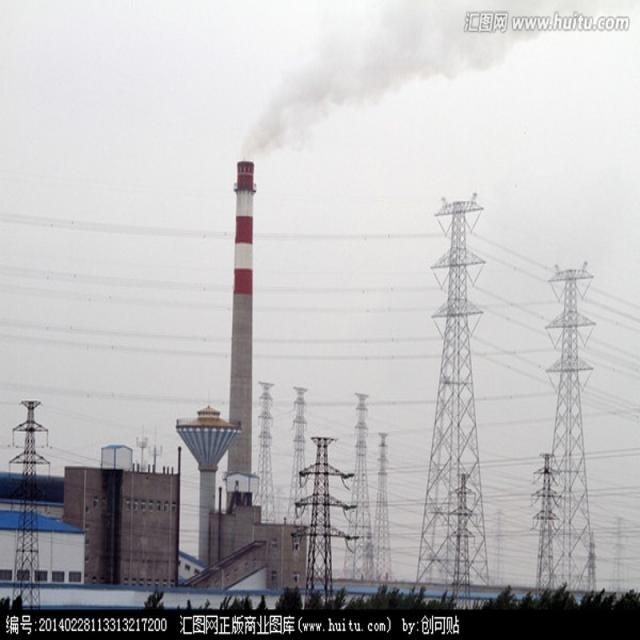non-critical vegetation: (422, 179, 491, 584), (538, 257, 600, 597), (296, 441, 358, 610), (340, 380, 378, 590), (11, 398, 47, 610), (284, 379, 310, 532), (258, 384, 276, 520)
